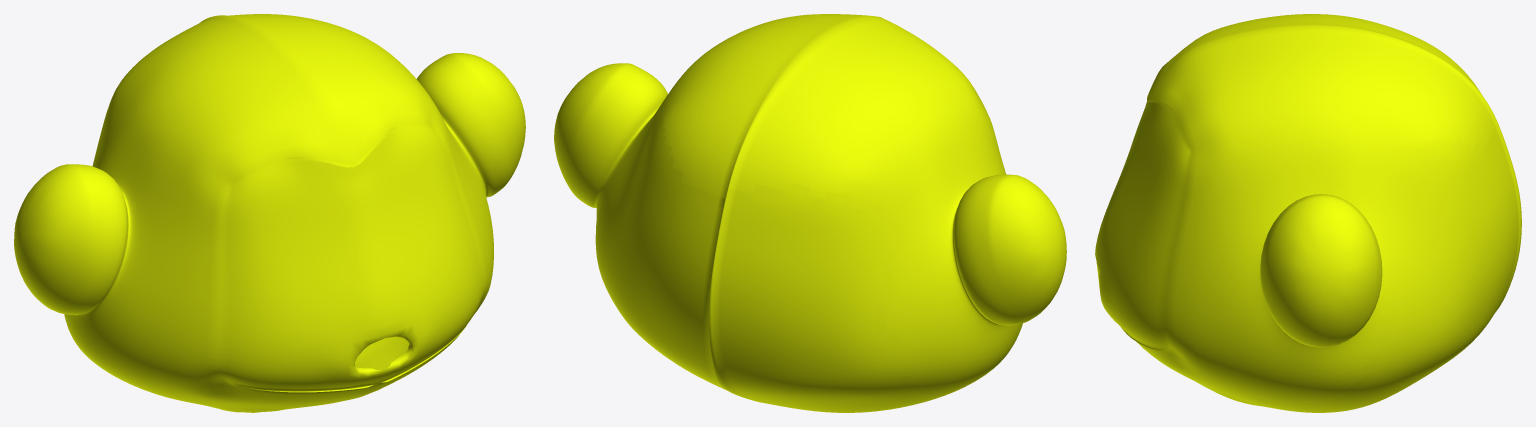
The model's file is zone1-singe-yellow.gltf.
3 renders of one model, left to right at view 1: azimuth 30°, elevation 25°; view 2: azimuth 150°, elevation 25°; view 3: azimuth 270°, elevation 25°, orthographic.
Visible parts, largest first — view 1: Tete; view 2: Tete; view 3: Tete.
Boxes of the visible parts, x1,y1,x2,y2 form: Tete: (14,14,525,412); Tete: (554,14,1066,412); Tete: (1095,14,1521,412).
Size of the model in its own units: 3.42 by 2.32 by 2.53.
